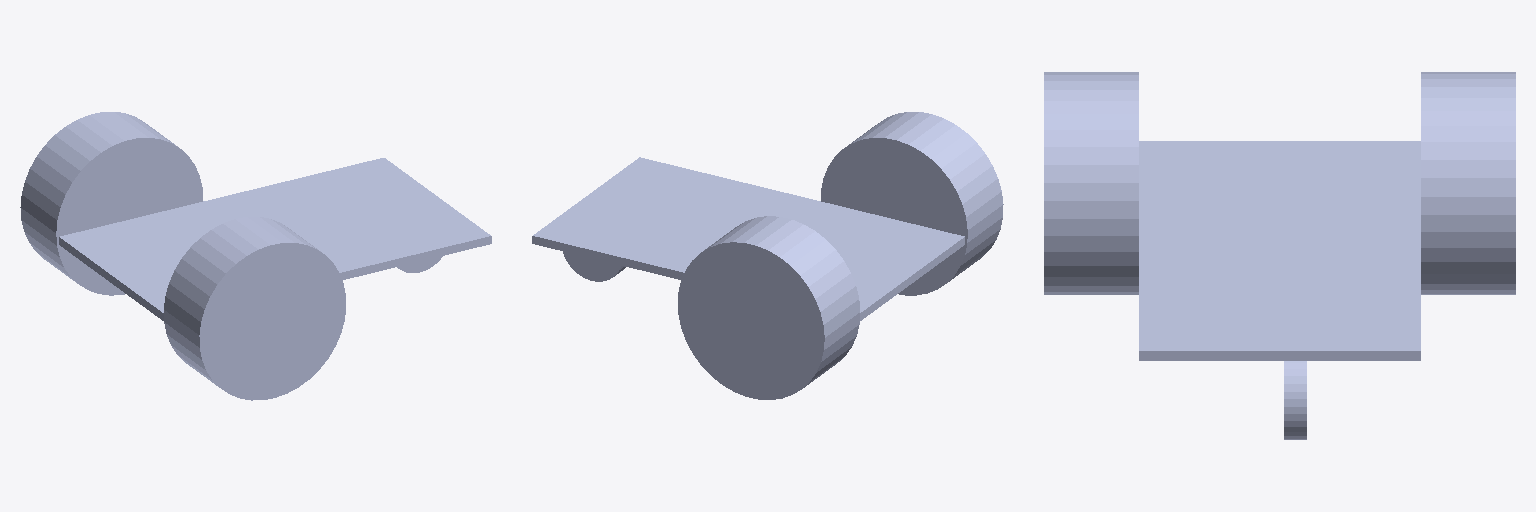
robot.urdf — ensamblaje_ft:
<robot
  name="ensamblaje_ft">
  <link
    name="carrito_base_link">
    <inertial>
      <origin
        xyz="-0.031173 -0.0023148 0.15"
        rpy="0 0 0" />
      <mass
        value="0.126" />
      <inertia
        ixx="0.00015146"
        ixy="-3.7058E-22"
        ixz="1.8014E-21"
        iyy="0.00061425"
        iyz="-1.3634E-23"
        izz="0.00046331" />
    </inertial>
    <visual>
      <origin
        xyz="0 0 0"
        rpy="0 0 0" />
      <geometry>
        <mesh
          filename="package://ensamblaje_ft/meshes/carrito_base_link.STL" />
      </geometry>
      <material
        name="">
        <color
          rgba="0.79216 0.81961 0.93333 1" />
      </material>
    </visual>
    <collision>
      <origin
        xyz="0 0 0"
        rpy="0 0 0" />
      <geometry>
        <mesh
          filename="package://ensamblaje_ft/meshes/carrito_base_link.STL" />
      </geometry>
    </collision>
  </link>
  <link
    name="RD_Link">
    <inertial>
      <origin
        xyz="0.02 -1.7347E-18 0"
        rpy="0 0 0" />
      <mass
        value="0.28353" />
      <inertia
        ixx="0.00031986"
        ixy="-9.5561E-21"
        ixz="7.3571E-21"
        iyy="0.00019773"
        iyz="3.3881E-21"
        izz="0.00019773" />
    </inertial>
    <visual>
      <origin
        xyz="0 0 0"
        rpy="0 0 0" />
      <geometry>
        <mesh
          filename="package://ensamblaje_ft/meshes/RD_Link.STL" />
      </geometry>
      <material
        name="">
        <color
          rgba="0.79216 0.81961 0.93333 1" />
      </material>
    </visual>
    <collision>
      <origin
        xyz="0 0 0"
        rpy="0 0 0" />
      <geometry>
        <mesh
          filename="package://ensamblaje_ft/meshes/RD_Link.STL" />
      </geometry>
    </collision>
  </link>
  <joint
    name="RD_Joint"
    type="fixed">
    <origin
      xyz="-0.0904082043959852 -0.249999999999998 0.00175073499384196"
      rpy="1.62413115644096 6.12303176911189E-17 1.5707963267949" />
    <parent
      link="carrito_base_link" />
    <child
      link="RD_Link" />
    <axis
      xyz="0 0 0" />
  </joint>
  <link
    name="RI_Link">
    <inertial>
      <origin
        xyz="0.02 -1.3878E-17 6.9389E-18"
        rpy="0 0 0" />
      <mass
        value="0.28353" />
      <inertia
        ixx="0.00031986"
        ixy="-2.1059E-20"
        ixz="1.1244E-20"
        iyy="0.00019773"
        iyz="0"
        izz="0.00019773" />
    </inertial>
    <visual>
      <origin
        xyz="0 0 0"
        rpy="0 0 0" />
      <geometry>
        <mesh
          filename="package://ensamblaje_ft/meshes/RI_Link.STL" />
      </geometry>
      <material
        name="">
        <color
          rgba="0.79216 0.81961 0.93333 1" />
      </material>
    </visual>
    <collision>
      <origin
        xyz="0 0 0"
        rpy="0 0 0" />
      <geometry>
        <mesh
          filename="package://ensamblaje_ft/meshes/RI_Link.STL" />
      </geometry>
    </collision>
  </link>
  <joint
    name="RI_Joint"
    type="fixed">
    <origin
      xyz="-0.0904200916318602 -0.0499999999999977 0.00190927635977744"
      rpy="-2.54845610836166 -6.12303176911189E-17 -1.5707963267949" />
    <parent
      link="carrito_base_link" />
    <child
      link="RI_Link" />
    <axis
      xyz="0 0 0" />
  </joint>
  <link
    name="RL_Link">
    <inertial>
      <origin
        xyz="0.005 0 0"
        rpy="0 0 0" />
      <mass
        value="0.012566" />
      <inertia
        ixx="2.5133E-06"
        ixy="-3.6384E-22"
        ixz="1.5894E-22"
        iyy="1.3614E-06"
        iyz="1.5882E-22"
        izz="1.3614E-06" />
    </inertial>
    <visual>
      <origin
        xyz="0 0 0"
        rpy="0 0 0" />
      <geometry>
        <mesh
          filename="package://ensamblaje_ft/meshes/RL_Link.STL" />
      </geometry>
      <material
        name="">
        <color
          rgba="0.79216 0.81961 0.93333 1" />
      </material>
    </visual>
    <collision>
      <origin
        xyz="0 0 0"
        rpy="0 0 0" />
      <geometry>
        <mesh
          filename="package://ensamblaje_ft/meshes/RL_Link.STL" />
      </geometry>
    </collision>
  </link>
  <joint
    name="RL_Joint"
    type="fixed">
    <origin
      xyz="0.0632937705482057 -0.138369650808744 -0.0248147933918564"
      rpy="-2.70610555616882 -6.12303176911189E-17 -1.5707963267949" />
    <parent
      link="carrito_base_link" />
    <child
      link="RL_Link" />
    <axis
      xyz="0 0 0" />
  </joint>
</robot>

--- Facts derived from the render (not from the file) ---
The picture shows the robot from 3 angles, left to right: view 1: azimuth 30°, elevation 25°; view 2: azimuth 150°, elevation 25°; view 3: azimuth 270°, elevation 25°; orthographic projection.
Robot: ensamblaje_ft — 4 links, 3 joints (3 fixed); root link carrito_base_link; default pose: every joint at zero.
Links seen in each view (by area): view 1: carrito_base_link, RD_Link, RI_Link; view 2: carrito_base_link, RI_Link, RD_Link, RL_Link; view 3: carrito_base_link, RD_Link, RI_Link, RL_Link.
Link boxes in pixels (x1=…): carrito_base_link: x1=59, y1=158, x2=491, y2=320; RD_Link: x1=164, y1=217, x2=345, y2=400; RI_Link: x1=20, y1=112, x2=202, y2=295; carrito_base_link: x1=532, y1=157, x2=964, y2=320; RI_Link: x1=678, y1=216, x2=859, y2=399; RD_Link: x1=821, y1=112, x2=1003, y2=295; RL_Link: x1=563, y1=251, x2=625, y2=281; carrito_base_link: x1=1139, y1=141, x2=1420, y2=360; RD_Link: x1=1044, y1=72, x2=1138, y2=294; RI_Link: x1=1421, y1=72, x2=1515, y2=294; RL_Link: x1=1284, y1=361, x2=1306, y2=439.
Bounding box of the posed robot: 0.2212 × 0.2 × 0.095 m (x, y, z).
Meshes: 4 distinct files referenced, 4 mesh visuals loaded (4 binary STL).
